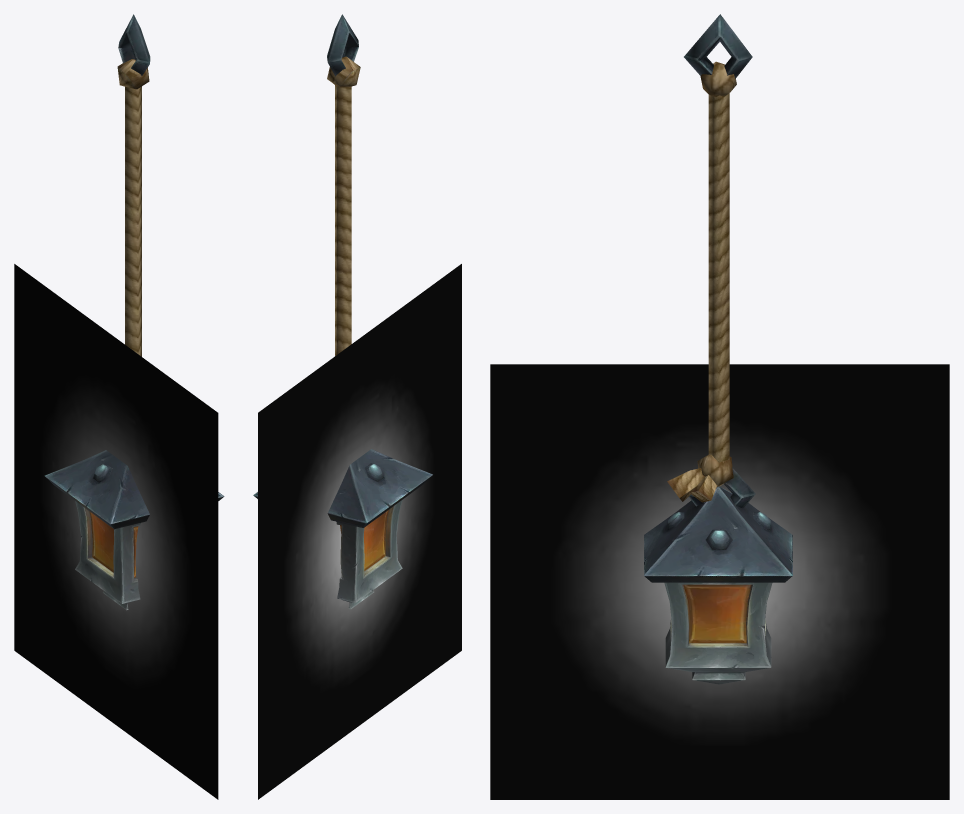
3 renders of one model, left to right at view 1: azimuth 30°, elevation 25°; view 2: azimuth 150°, elevation 25°; view 3: azimuth 270°, elevation 25°, orthographic. The views are drawn at different scales.
Bounding box in the file's own units: 0.8122 × 4.81 × 2.51.
Materials: 2 (2 with a texture image).
